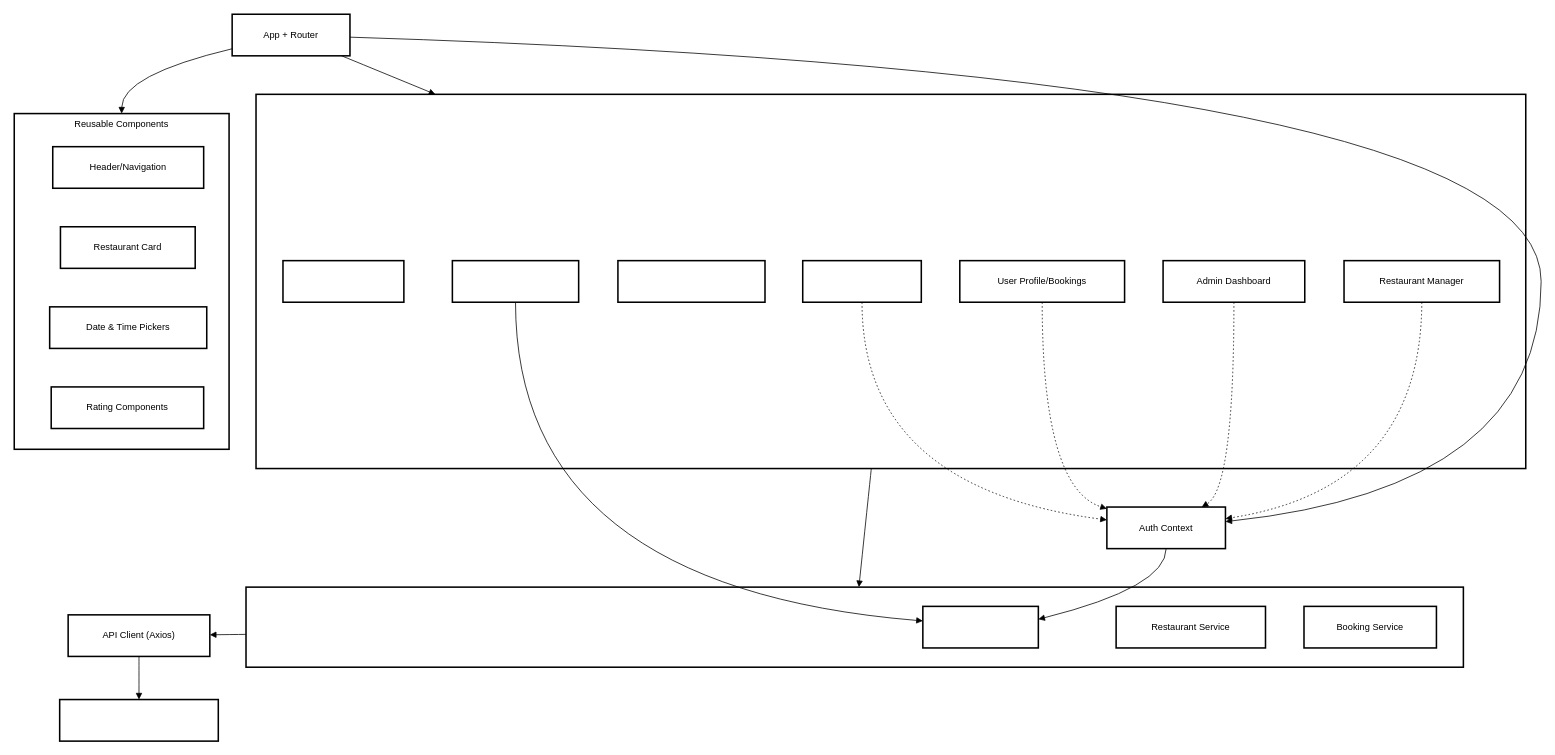
This 1555x755 diagram has some shape labels left out. Each missing label, with the box of its shape:
API Services: (245, 586, 1464, 668)
Auth Service: (922, 605, 1039, 648)
Booking Page: (802, 259, 922, 303)
Home/Search: (282, 259, 404, 303)
Login/Register: (451, 259, 579, 303)
Restaurant Details: (617, 259, 765, 303)
Spring Boot Backend: (59, 698, 219, 742)
